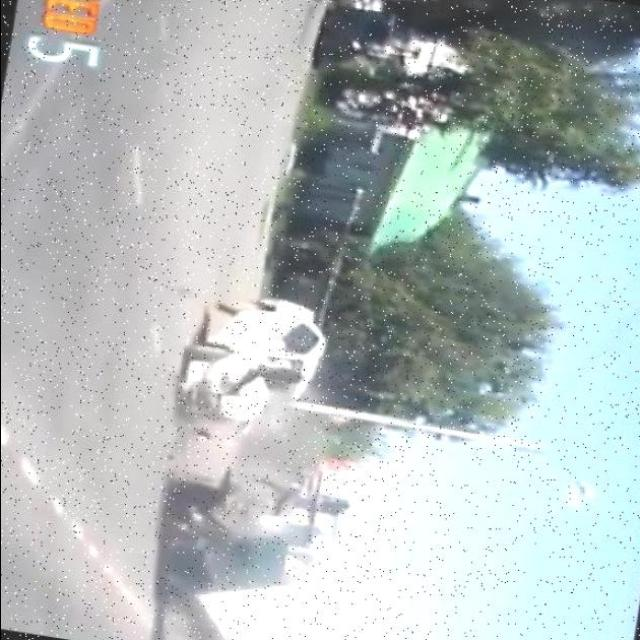accident: (165, 349, 342, 606)
